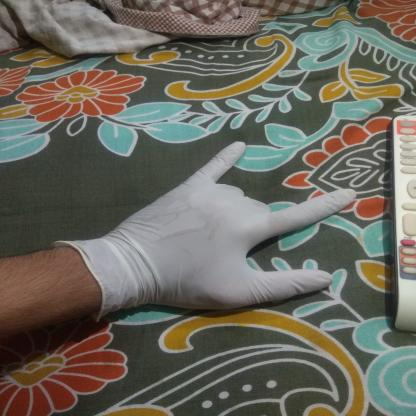gloved_hand: (47, 138, 360, 340)
